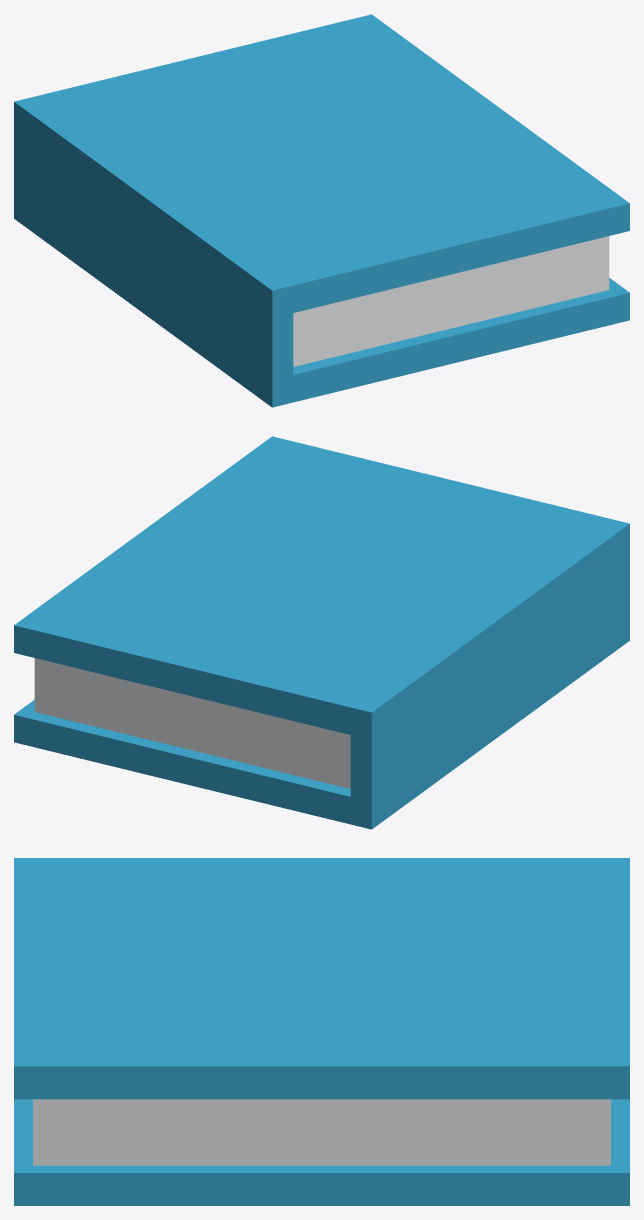
Rendered from 4_Book.fbx.
3 renders of one model, top to bottom at view 1: azimuth 30°, elevation 25°; view 2: azimuth 150°, elevation 25°; view 3: azimuth 270°, elevation 25°, orthographic. The views are drawn at different scales.
Parts seen in each view (by area): view 1: Plane.001; view 2: Plane.001; view 3: Plane.001.
Boxes of the visible parts, <box> form: Plane.001: <box>14,14,629,407</box>; Plane.001: <box>14,436,629,829</box>; Plane.001: <box>14,858,629,1205</box>.
Size of the model in its own units: 80 by 64 by 20.
1 material, 1 textured.
